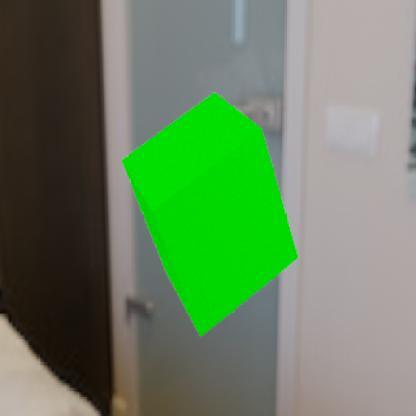cube: (121, 91, 298, 336)
